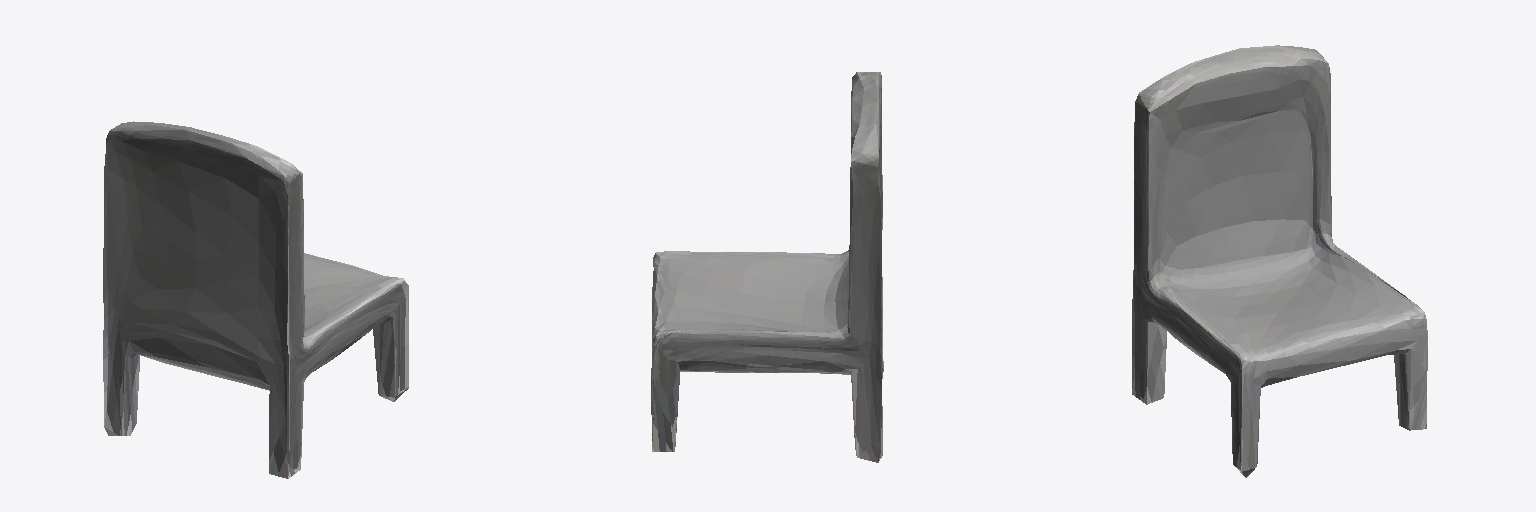
3 renders of one model, left to right at view 1: azimuth 30°, elevation 25°; view 2: azimuth 150°, elevation 25°; view 3: azimuth 270°, elevation 25°, orthographic.
Bounding box in the file's own units: 0.8561 × 1 × 0.8212.
1 materials, 1 textured.